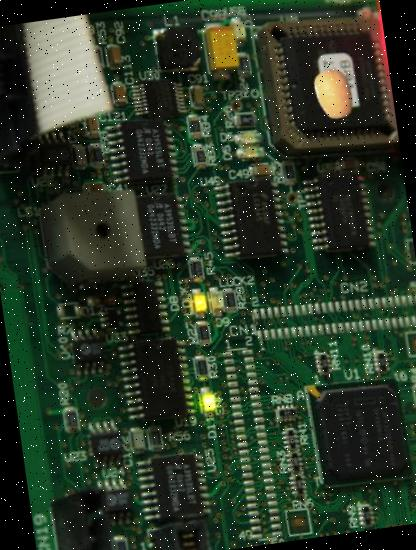Kumquats: (306, 65, 364, 123)
